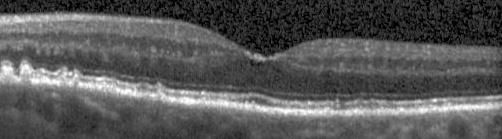retinal_drusen: (90, 86, 131, 96), (20, 68, 31, 84), (2, 70, 15, 83), (57, 76, 66, 86), (154, 90, 164, 99), (40, 76, 51, 83), (72, 77, 78, 88)
